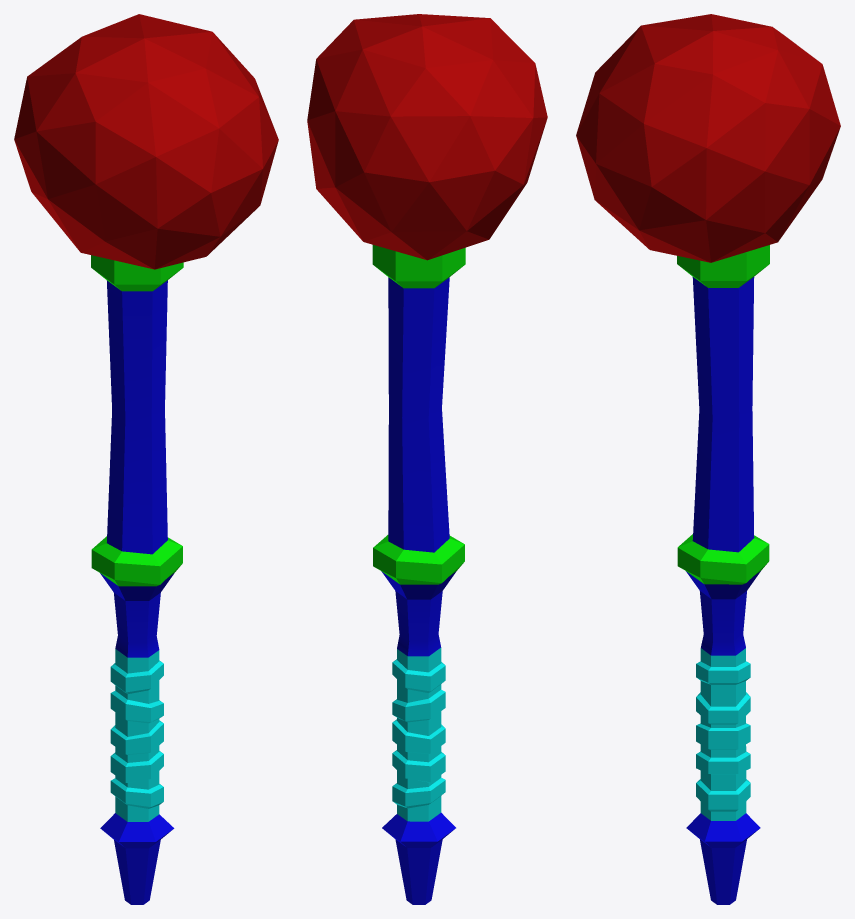
The model's file is Mace_Uncommon_RoundBoi.fbx.
3 views of the same model, side by side, from view 1: azimuth 30°, elevation 25°; view 2: azimuth 150°, elevation 25°; view 3: azimuth 270°, elevation 25° (orthographic).
Parts seen in each view (by area): view 1: SM_Wep_Hammer_Mace_Sphere_01; view 2: SM_Wep_Hammer_Mace_Sphere_01; view 3: SM_Wep_Hammer_Mace_Sphere_01.
Boxes of the visible parts, left/top/right/bottom form: SM_Wep_Hammer_Mace_Sphere_01: left=14, top=14, right=278, bottom=904; SM_Wep_Hammer_Mace_Sphere_01: left=307, top=14, right=547, bottom=904; SM_Wep_Hammer_Mace_Sphere_01: left=576, top=14, right=840, bottom=904.
Size of the model in its own units: 0.2184 by 0.8332 by 0.2299.
